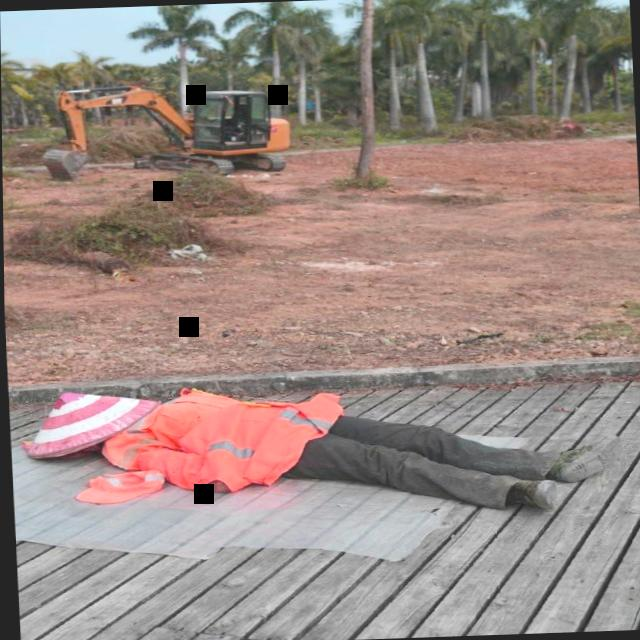Fall-Detected: (17, 350, 611, 523)
